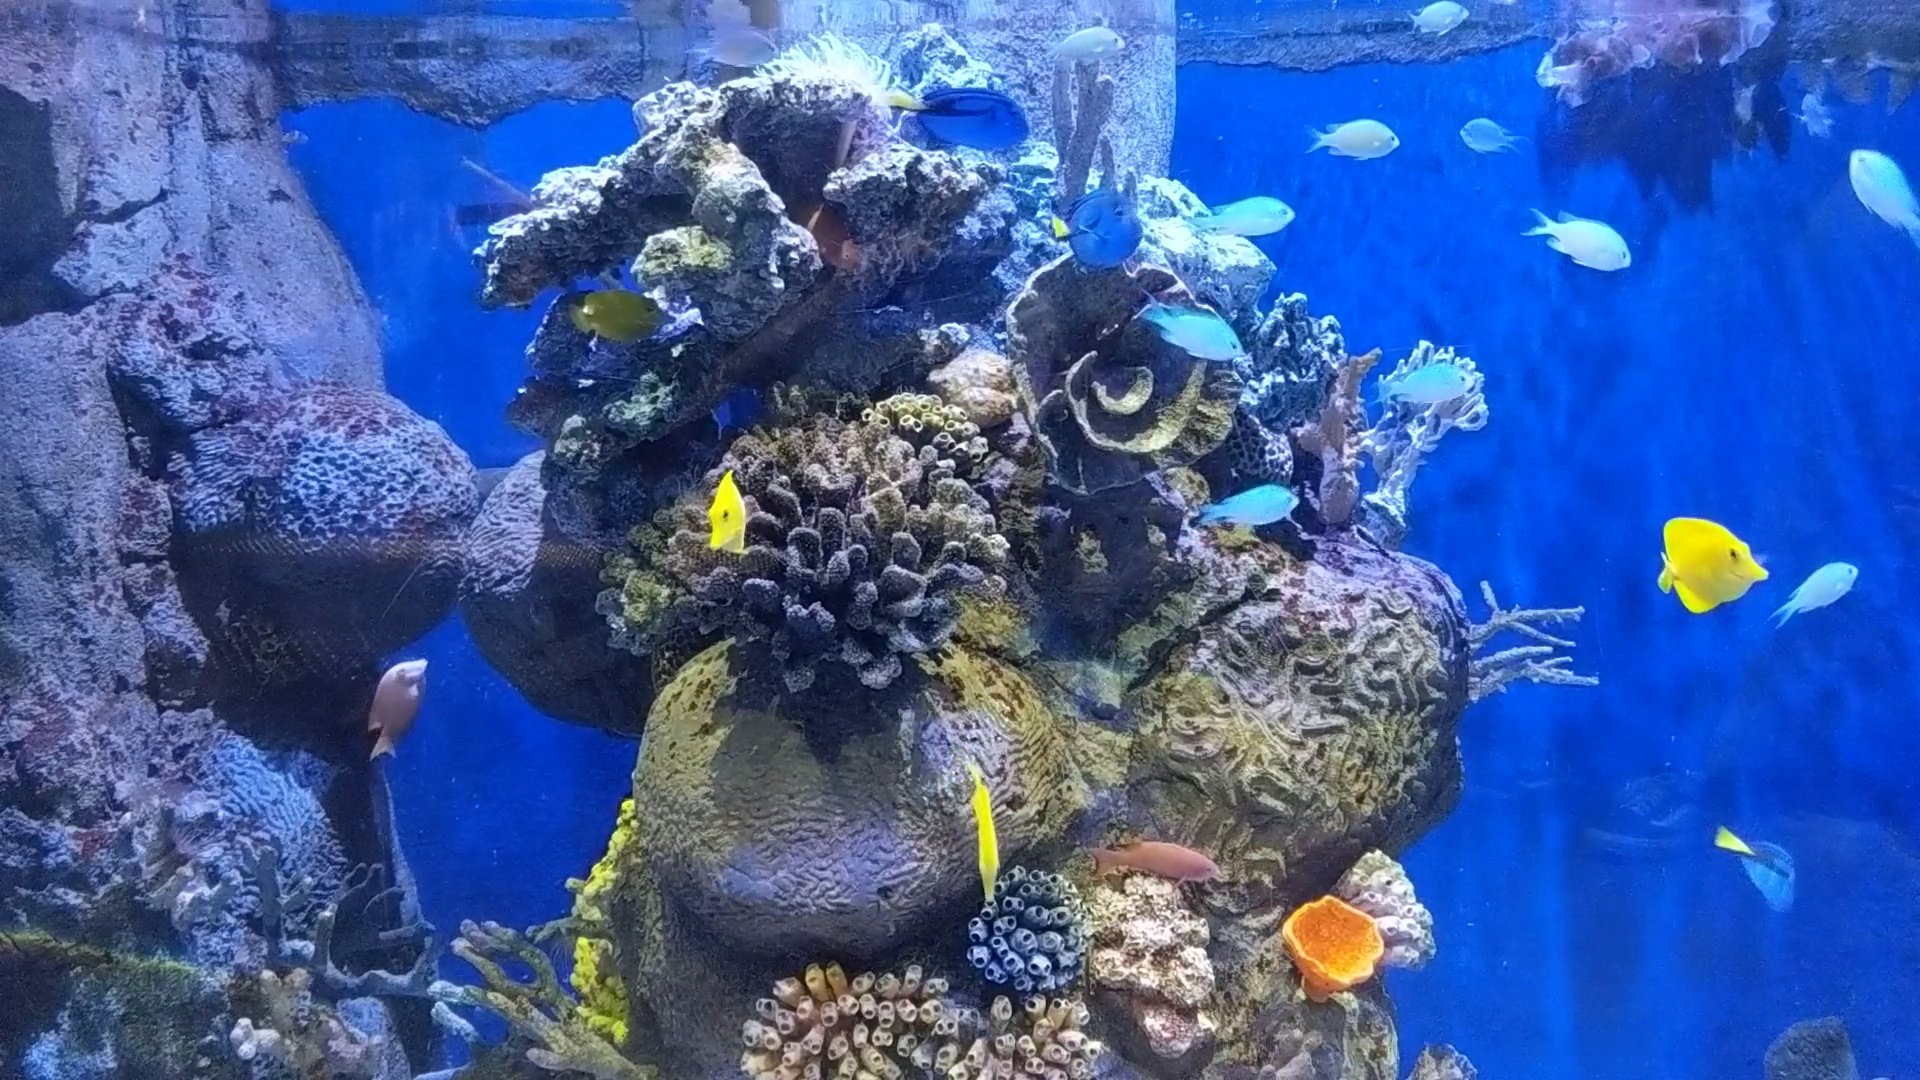blue tang surgeonfish: (880, 80, 1036, 149), (1716, 811, 1803, 914), (1046, 196, 1142, 265)
damselfish: (1519, 200, 1636, 272), (1844, 142, 1920, 249), (1145, 291, 1246, 371), (1772, 558, 1865, 626), (1369, 363, 1484, 417), (1184, 193, 1296, 239), (1298, 113, 1407, 158), (674, 30, 789, 73), (1044, 18, 1135, 69), (1193, 487, 1304, 527), (1452, 119, 1527, 160), (1404, 0, 1472, 41)
saddle butterfly fish: (1654, 512, 1767, 613), (963, 754, 1009, 905), (568, 284, 682, 343), (709, 469, 749, 568)
